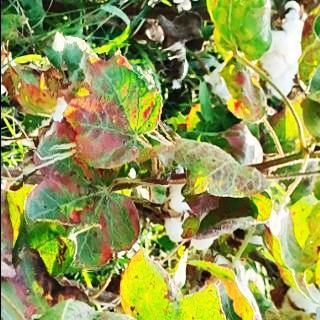blight: (50, 40, 180, 182), (22, 149, 144, 273)
